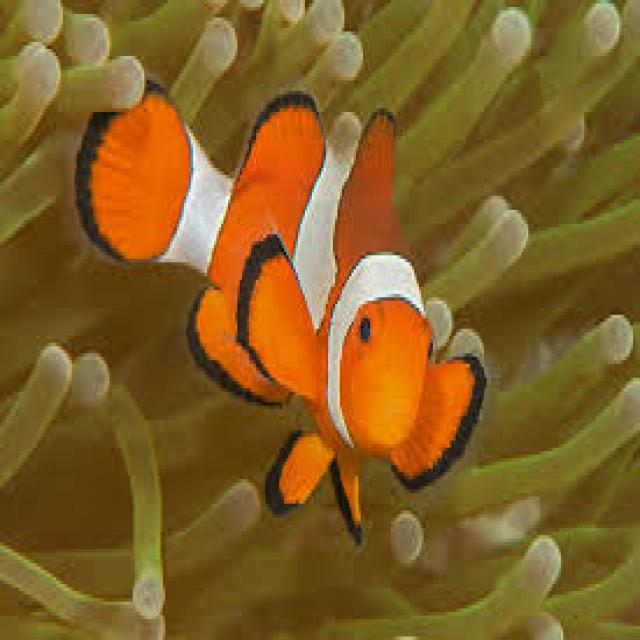Amphiprion-percula: (58, 37, 502, 560)
